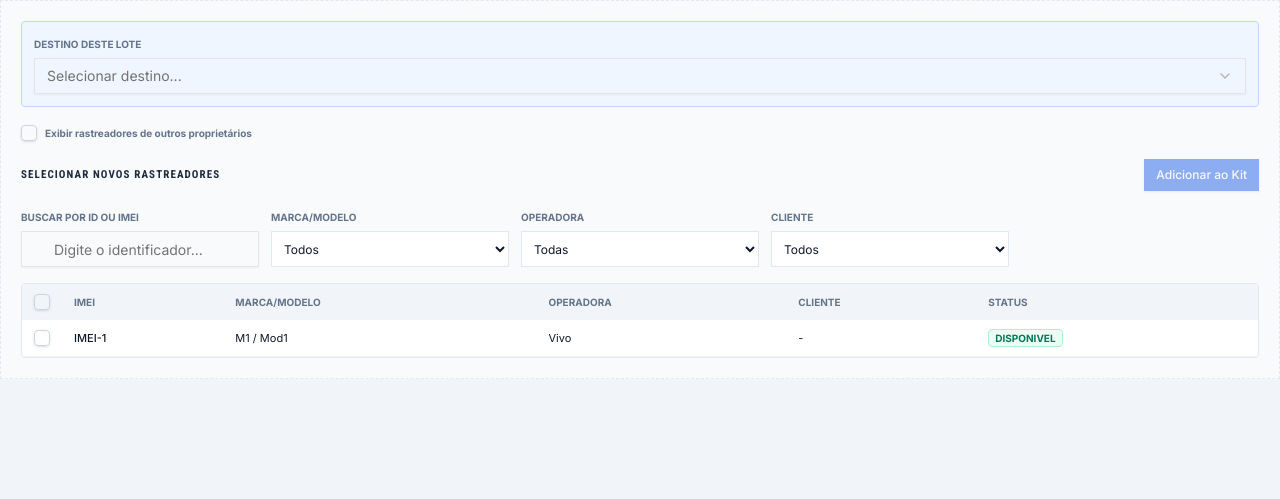
Test case: ModalSelecaoEKitPanelNovosRastreadores › tabela de aparelhos › fluxo misto: escolher destino na UI + selecionar linha habilita Adicionar
This screenshot has width=1280, height=499.
Expected: the button "Adicionar ao Kit" is disabled, [1144,159,1259,191]
Click the button "Selecionar destino..." at (114,76), box [34,58,1246,94]
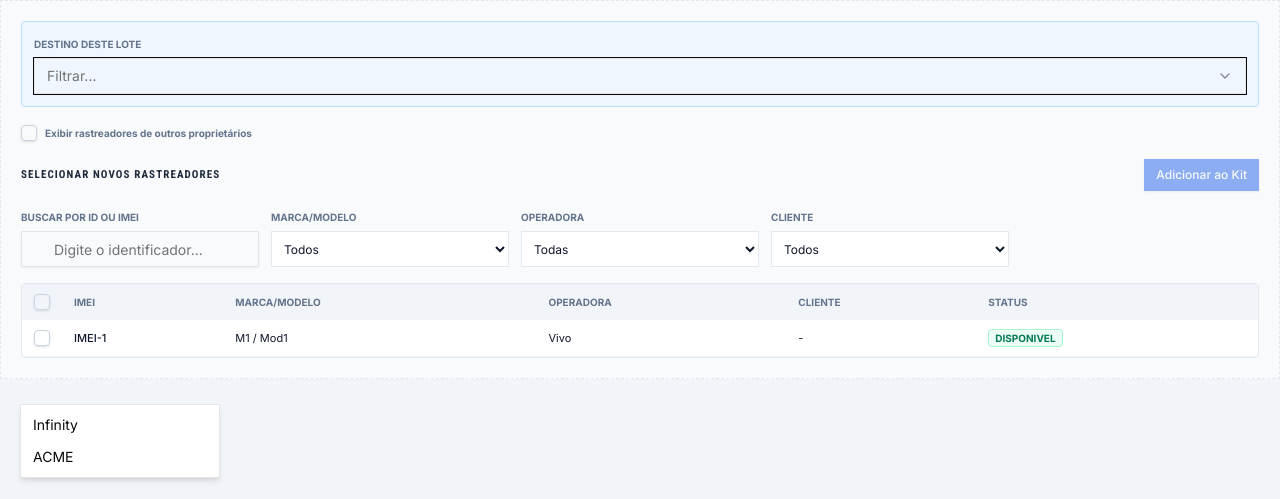
Click the button "Infinity" at (120,425), box [21,409,219,441]
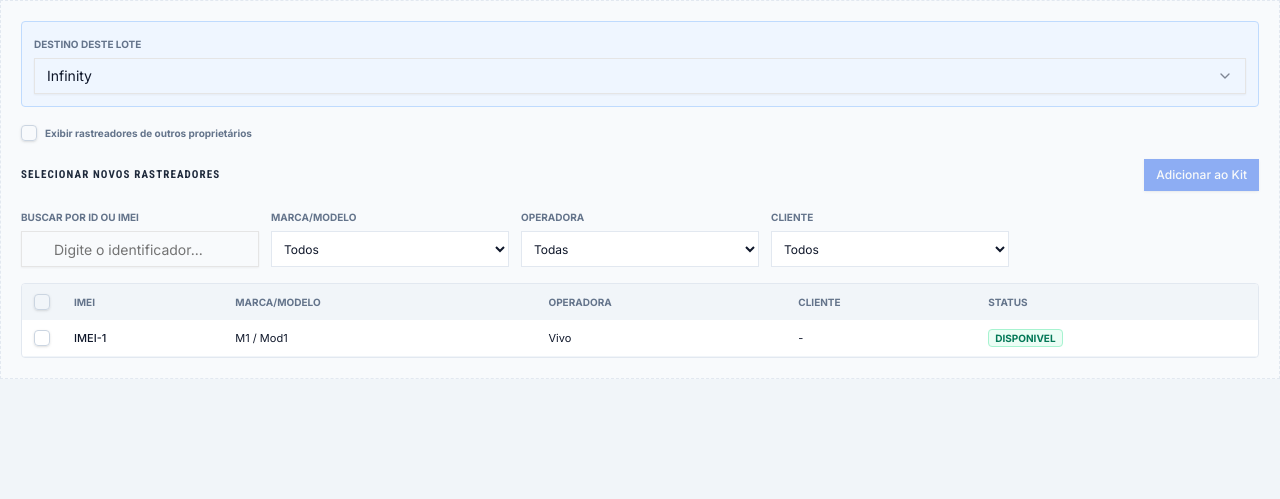
Expected: the button "Adicionar ao Kit" is disabled, [1144,159,1259,191]
Click the text "IMEI-1" at (640,338), box [22,320,1258,356]
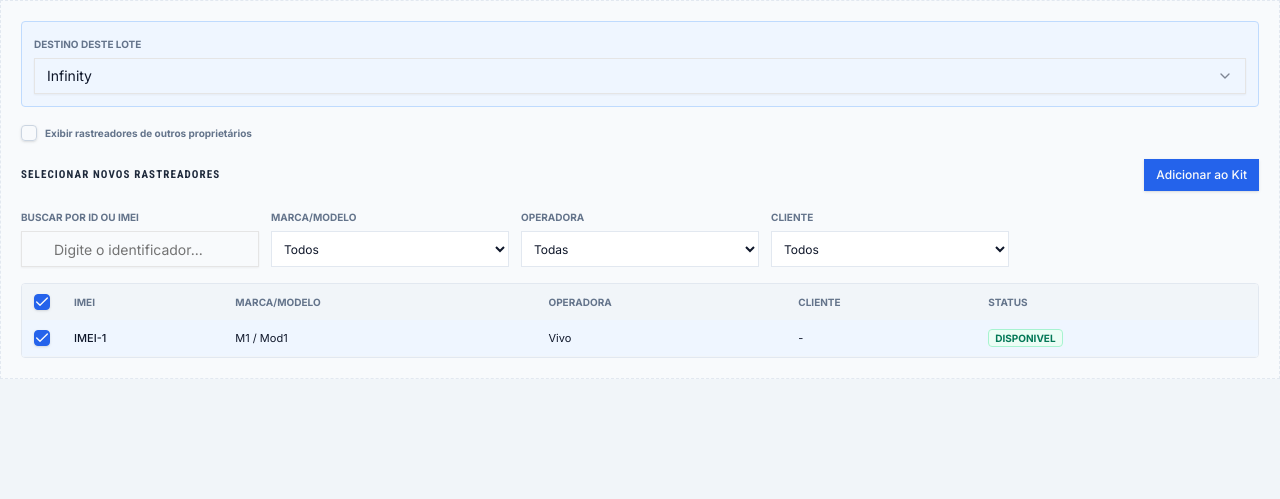
Result: the button "Adicionar ao Kit" is enabled at [1144,159,1259,191]
